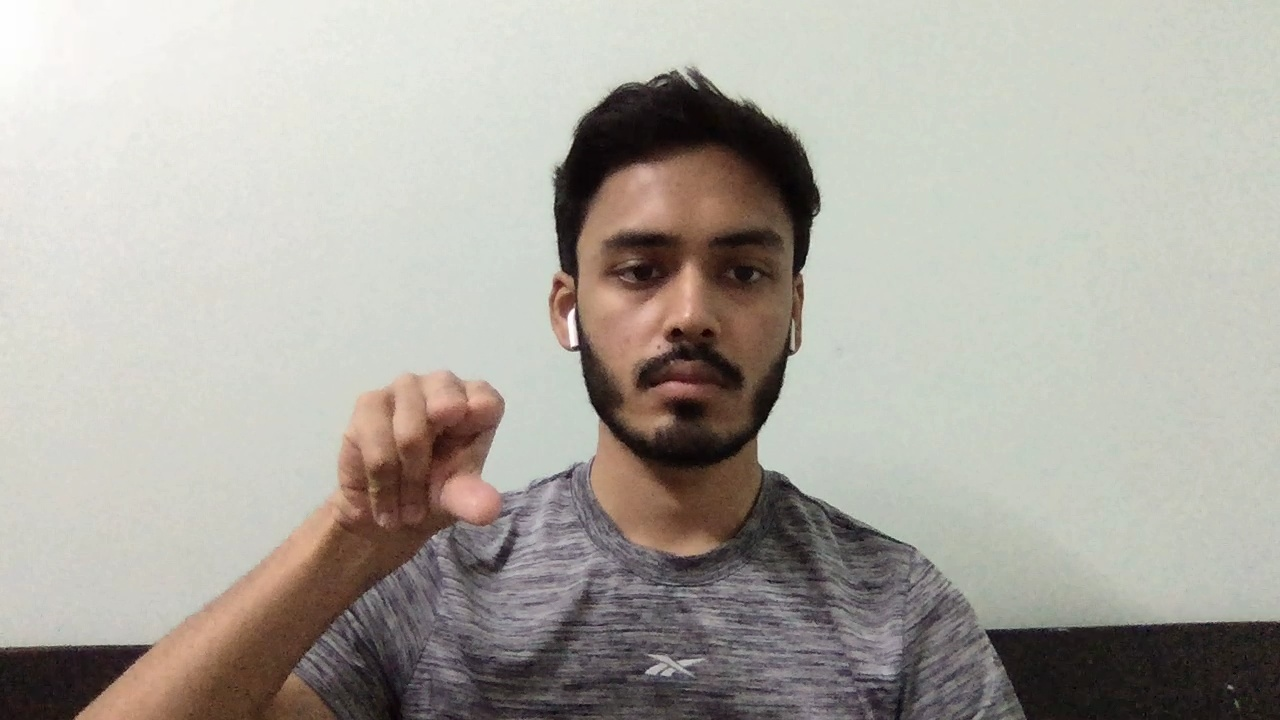No: (299, 352, 525, 550)
